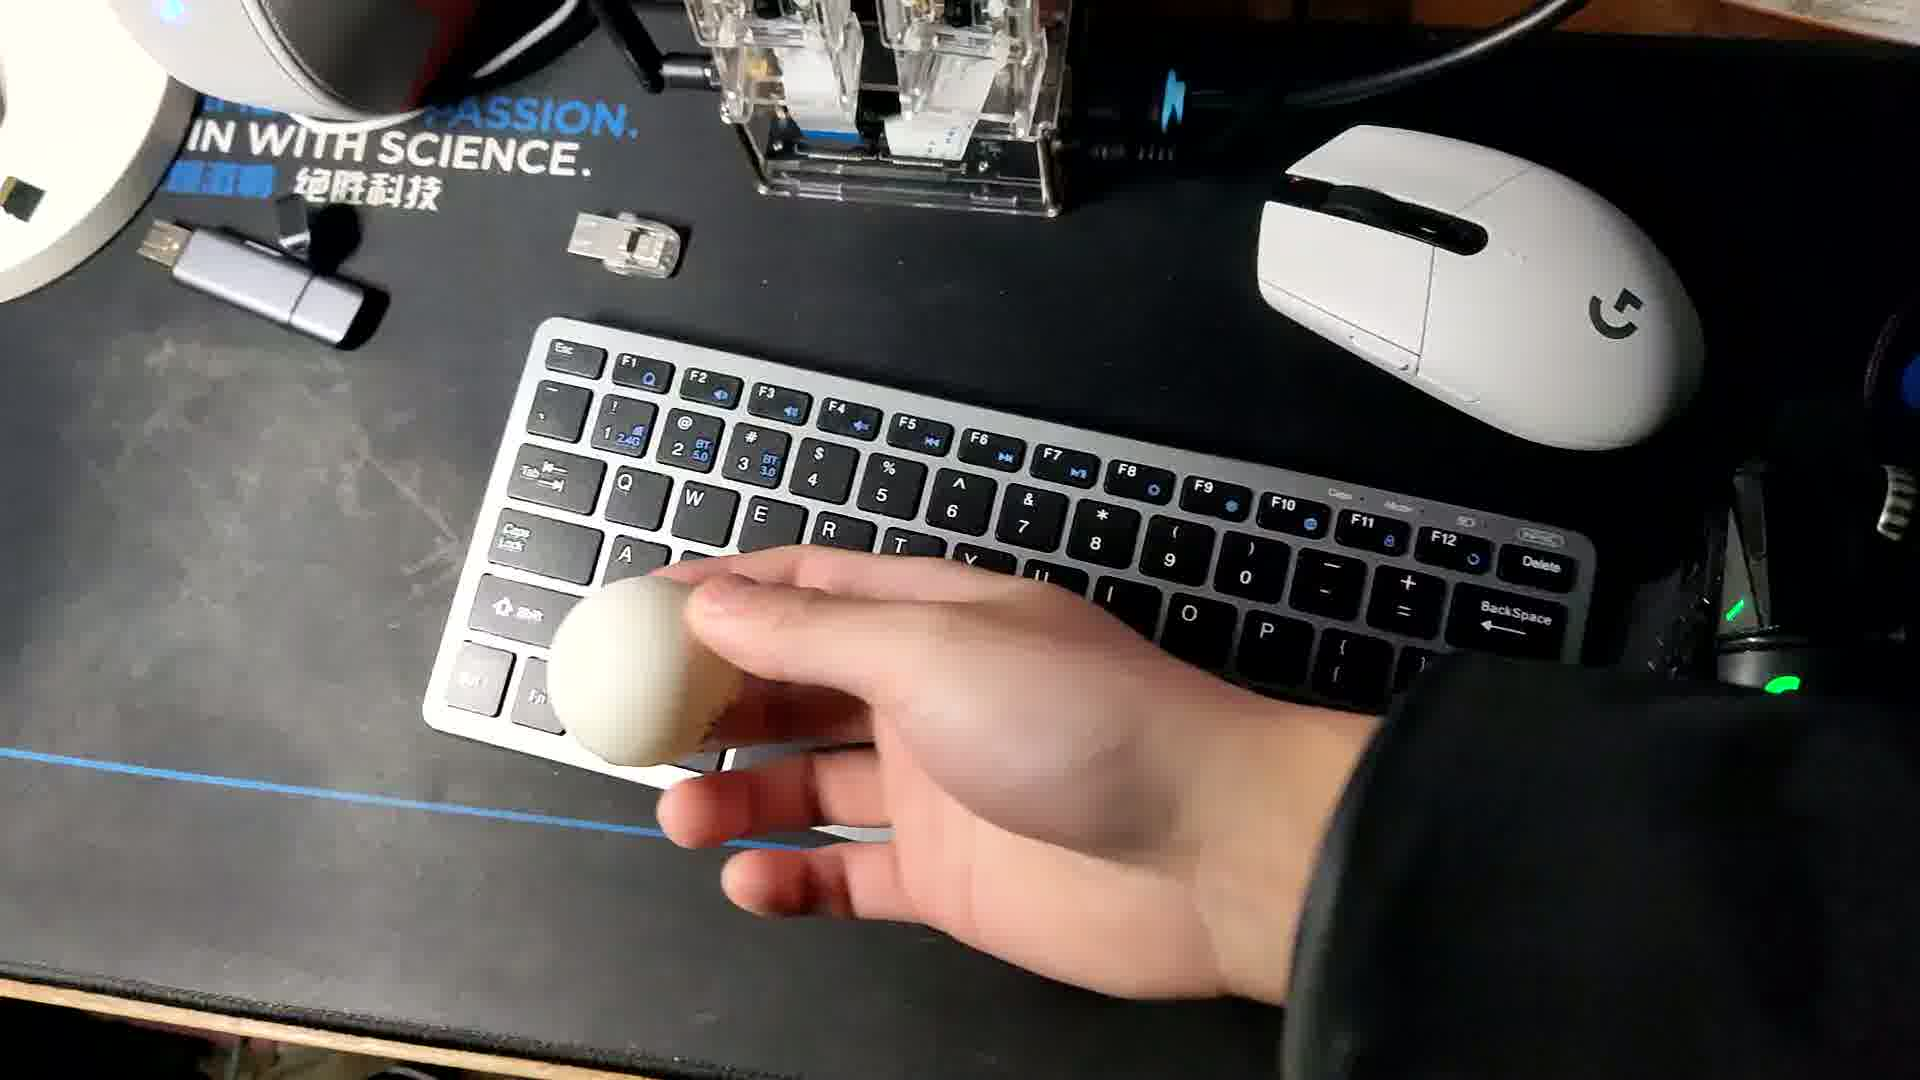Ball: (541, 576, 738, 770)
